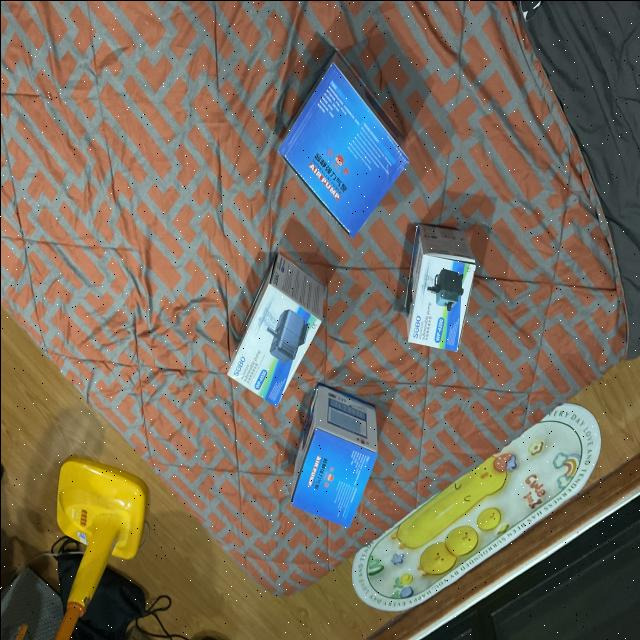SOBO_WP_4200: (211, 232, 329, 406), (397, 219, 479, 368)
YAMANO_LPP_20: (258, 44, 420, 238), (280, 380, 384, 544)
